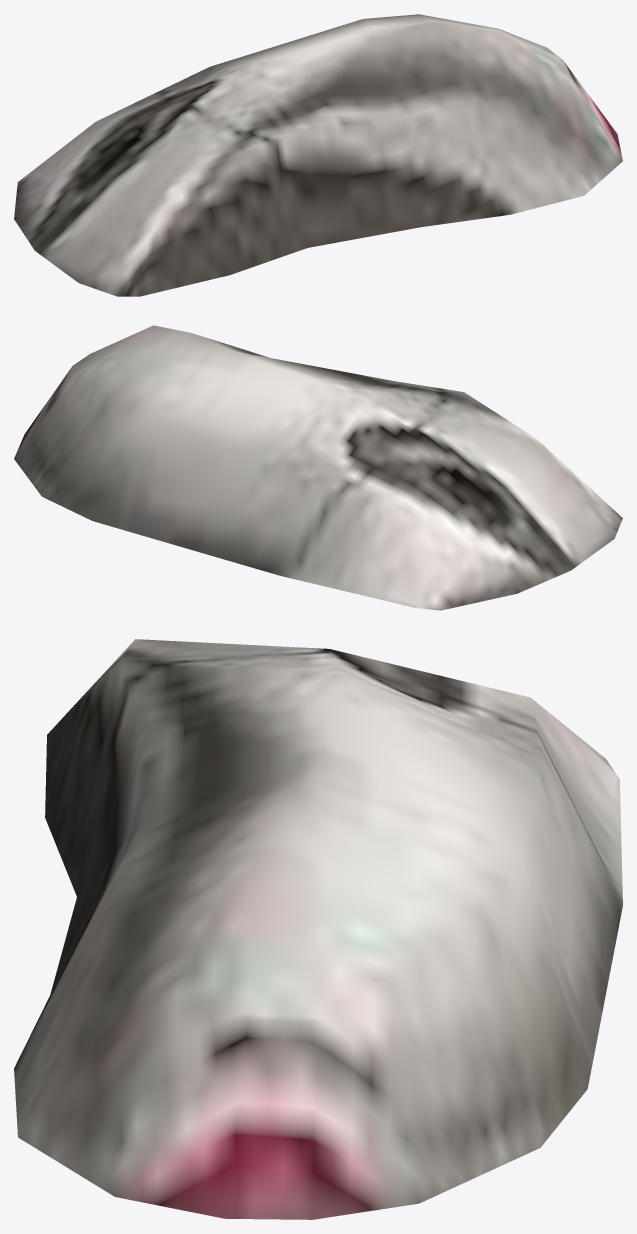
File: computer_mouse.glb
The picture shows the model from 3 angles, top to bottom: view 1: azimuth 30°, elevation 25°; view 2: azimuth 150°, elevation 25°; view 3: azimuth 270°, elevation 25°; orthographic projection. The views are drawn at different scales.
Visible parts, largest first — view 1: 0_computer; view 2: 0_computer; view 3: 0_computer.
Part boxes in pixels (x1=…): 0_computer: x1=14, y1=14, x2=622, y2=296; 0_computer: x1=14, y1=325, x2=622, y2=610; 0_computer: x1=14, y1=639, x2=622, y2=1219.
Bounding box in the file's own units: 0.1603 × 0.038 × 0.0802.
Materials: 1 (1 with a texture image).
